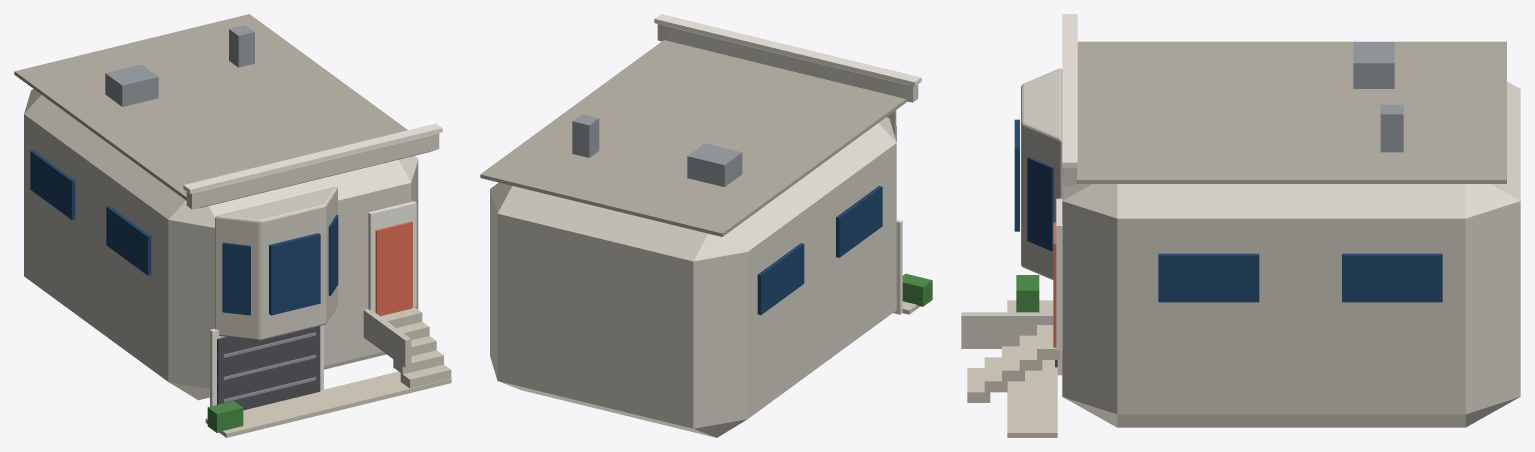
Rendered from sunset_w7_plain_bay.glb.
3 views of the same model, side by side, from view 1: azimuth 30°, elevation 25°; view 2: azimuth 150°, elevation 25°; view 3: azimuth 270°, elevation 25° (orthographic). The views are drawn at different scales.
Visible parts, largest first — view 1: walls, roofslab, bay, gdoor, patio, pp1, bw, door, pcap, bwa, dfr, sb (+10 smaller); view 2: walls, roofslab, pp1, pcap, sb.002, sb, hvac, pipe, hedge, gfr; view 3: walls, roofslab, bay, sb.001, sb.003, patio, srail, pcap, bwa.001, hvac, pipe, dfr (+7 smaller).
Boxes of the visible parts, bbox=[...] form: walls: bbox=[24, 89, 418, 400]; roofslab: bbox=[14, 14, 407, 200]; bay: bbox=[215, 187, 337, 340]; gdoor: bbox=[217, 326, 320, 410]; patio: bbox=[205, 371, 451, 437]; pp1: bbox=[186, 133, 439, 209]; bw: bbox=[269, 233, 320, 315]; door: bbox=[375, 221, 412, 316]; pcap: bbox=[183, 123, 442, 193]; bwa: bbox=[222, 242, 250, 315]; dfr: bbox=[368, 201, 416, 312]; sb: bbox=[106, 206, 151, 275]; walls: bbox=[490, 117, 896, 437]; roofslab: bbox=[480, 40, 906, 236]; pp1: bbox=[657, 24, 918, 102]; pcap: bbox=[654, 14, 921, 86]; sb.002: bbox=[757, 243, 804, 315]; sb: bbox=[836, 186, 882, 257]; hvac: bbox=[687, 143, 742, 187]; pipe: bbox=[572, 114, 599, 157]; hedge: bbox=[902, 273, 932, 306]; gfr: bbox=[893, 219, 902, 314]; walls: bbox=[1062, 81, 1520, 427]; roofslab: bbox=[1076, 41, 1506, 183]; bay: bbox=[1021, 68, 1062, 279]; sb.001: bbox=[1158, 253, 1259, 302]; sb.003: bbox=[1342, 253, 1442, 302]; patio: bbox=[1007, 300, 1057, 437]; srail: bbox=[961, 312, 1053, 348]; pcap: bbox=[1062, 14, 1077, 167]; bwa.001: bbox=[1027, 157, 1053, 251]; hvac: bbox=[1353, 42, 1394, 88]; pipe: bbox=[1380, 104, 1403, 152]; dfr: bbox=[1056, 198, 1062, 350].
Bounding box in the file's own units: 7.8 × 7.2 × 12.2.
